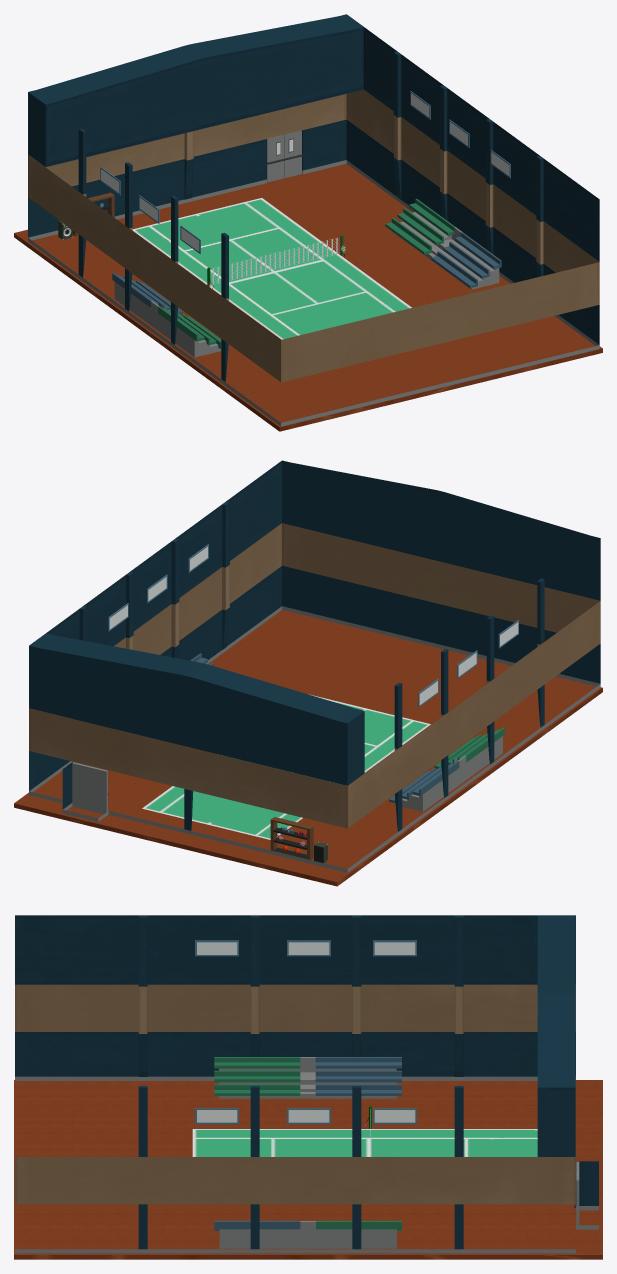
The model's file is tenisV5.fbx.
3 renders of one model, top to bottom at view 1: azimuth 30°, elevation 25°; view 2: azimuth 150°, elevation 25°; view 3: azimuth 270°, elevation 25°, orthographic. The views are drawn at different scales.
Visible parts, largest first — view 1: edificio, piso.001, tenis, castillos, gradasVerdesIzq.001, gradasAzulesIzq.001, gradasVerdesIzq, puerta.001, gradasAzulesIzq, red; view 2: edificio, piso.001, castillos, tenis, gradasAzulesIzq, puerta.001, gradasVerdesIzq, estante; view 3: edificio, piso.001, castillos, tenis, gradasVerdesIzq, gradasAzulesIzq, gradasVerdesIzq.001, gradasAzulesIzq.001, Cube.001, Cube.002, Cube.003, Cube.004 (+2 smaller).
Part boxes in pixels (x1,y1,x2,y2): edificio: (28, 14, 599, 426); piso.001: (14, 163, 602, 431); tenis: (132, 198, 411, 339); castillos: (78, 51, 543, 381); gradasVerdesIzq.001: (385, 198, 462, 263); gradasAzulesIzq.001: (431, 232, 501, 289); gradasVerdesIzq: (149, 301, 221, 357); puerta.001: (267, 130, 302, 182); gradasAzulesIzq: (112, 272, 182, 323); red: (211, 238, 340, 284); edificio: (29, 460, 600, 872); piso.001: (14, 610, 602, 886); castillos: (79, 501, 544, 831); tenis: (142, 694, 430, 839); gradasAzulesIzq: (389, 761, 459, 811); puerta.001: (72, 762, 108, 814); gradasVerdesIzq: (434, 727, 504, 786); estante: (270, 817, 313, 859); edificio: (15, 915, 598, 1253); piso.001: (14, 1080, 602, 1259); castillos: (138, 915, 463, 1249); tenis: (192, 1129, 537, 1156); gradasVerdesIzq: (214, 1057, 320, 1098); gradasAzulesIzq: (315, 1057, 401, 1098); gradasVerdesIzq.001: (295, 1221, 401, 1248); gradasAzulesIzq.001: (214, 1221, 300, 1248); Cube.001: (287, 940, 330, 956); Cube.002: (195, 940, 238, 956); Cube.003: (373, 1108, 416, 1124); Cube.004: (287, 1108, 330, 1124).
Size of the model in its own units: 4791 by 2291 by 6818.
